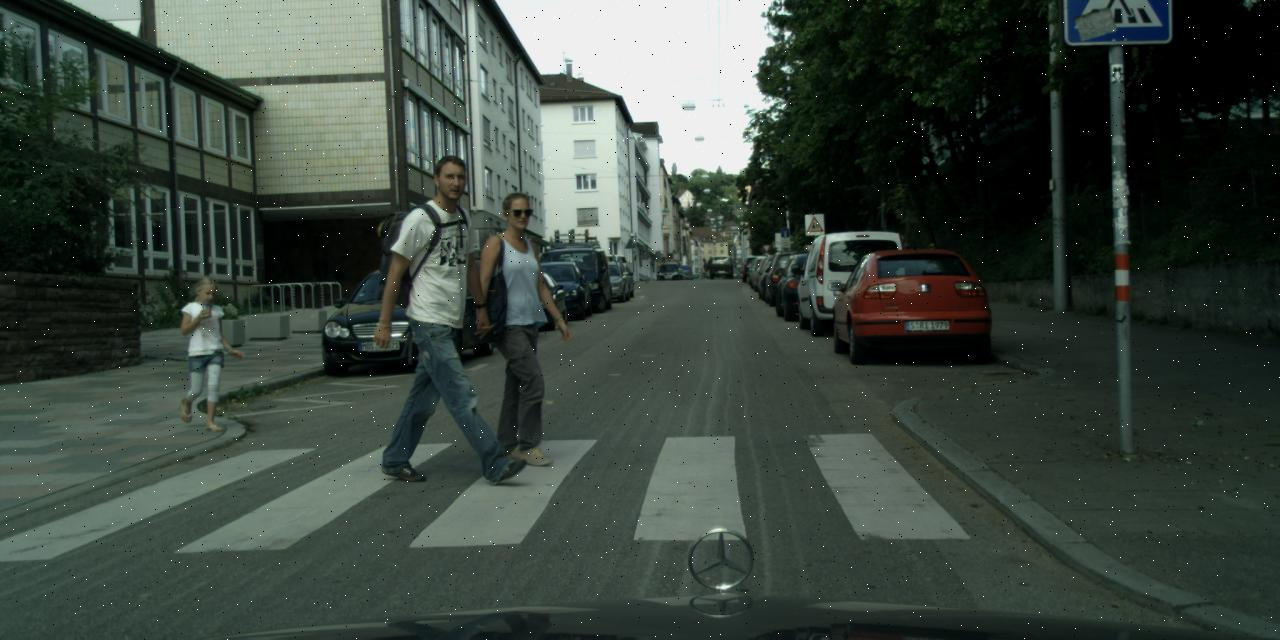ped: (387, 154, 519, 479), (464, 191, 574, 462), (172, 275, 234, 425), (607, 257, 615, 277)
